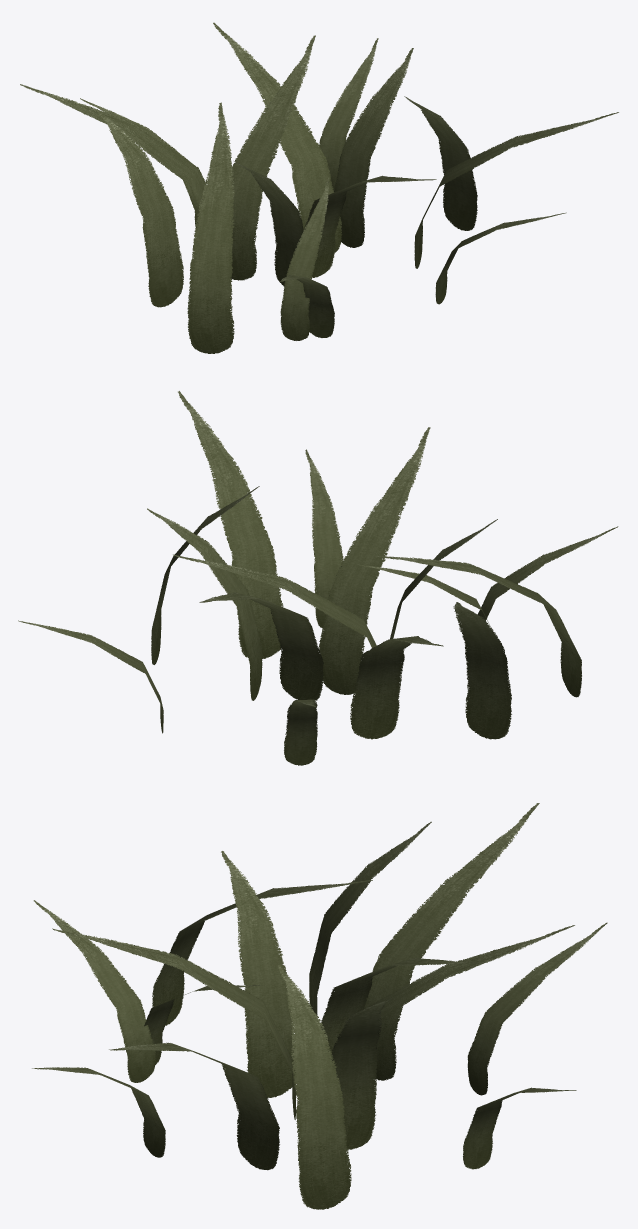
The model's file is FoliageShortGrassMesh.fbx.
3 renders of one model, top to bottom at view 1: azimuth 30°, elevation 25°; view 2: azimuth 150°, elevation 25°; view 3: azimuth 270°, elevation 25°, orthographic. The views are drawn at different scales.
Visible parts, largest first — view 1: Plane.014; view 2: Plane.014; view 3: Plane.014.
Boxes of the visible parts, left/top/right/bottom form: Plane.014: left=20, top=22, right=618, bottom=353; Plane.014: left=18, top=391, right=618, bottom=765; Plane.014: left=32, top=803, right=607, bottom=1209.
Size of the model in its own units: 0.8512 by 0.3075 by 0.8425.
Materials: 1 (1 with a texture image).
